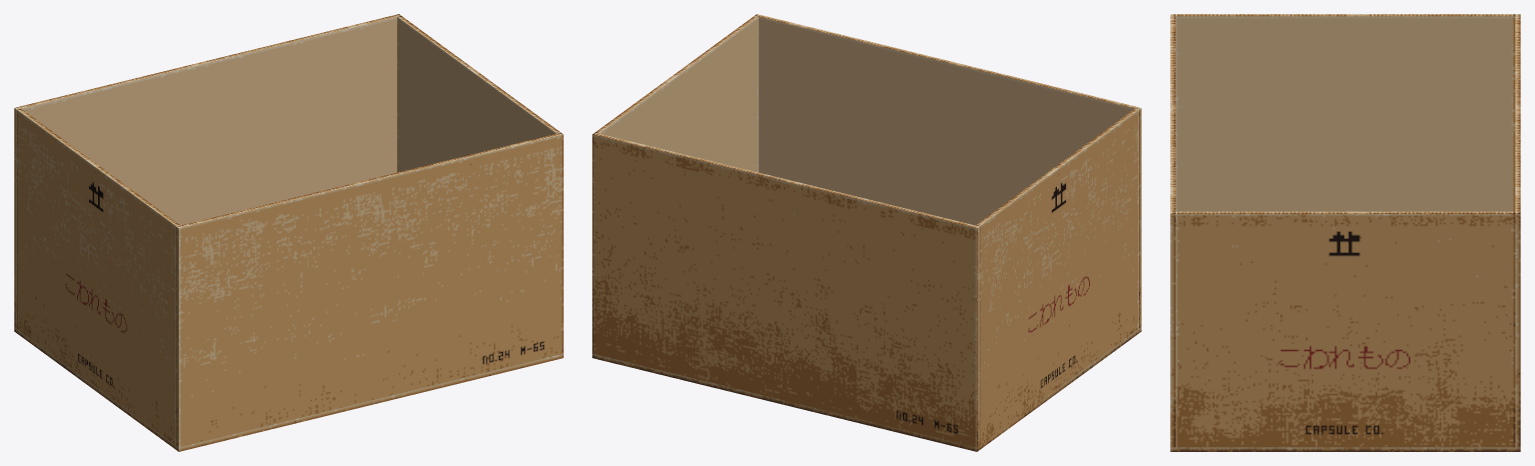
File: carton.glb
3 views of the same model, side by side, from view 1: azimuth 30°, elevation 25°; view 2: azimuth 150°, elevation 25°; view 3: azimuth 270°, elevation 25° (orthographic). The views are drawn at different scales.
Parts seen in each view (by area): view 1: shell, flap_l; view 2: shell, flap_s; view 3: shell, flap_s.
Part boxes in pixels (<box>): shell: <box>14,14,563,451</box>; flap_l: <box>179,353,563,451</box>; shell: <box>592,14,1141,451</box>; flap_s: <box>592,353,784,404</box>; shell: <box>1170,14,1520,447</box>; flap_s: <box>1170,447,1520,451</box>.
Size of the model in its own units: 0.27 by 0.15 by 0.2.
Materials: 1 (1 with a texture image).
